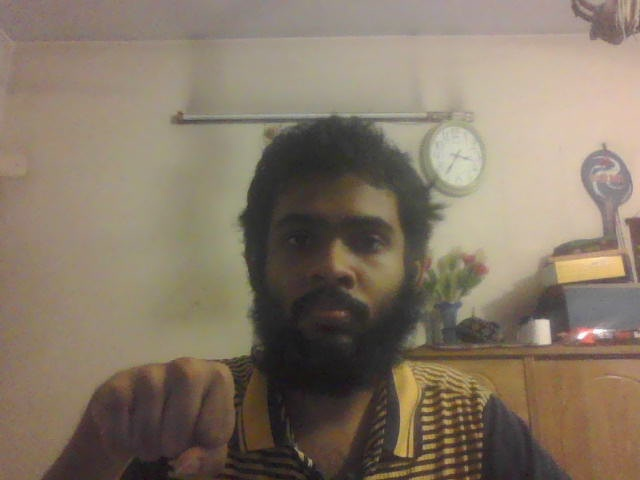Yes: (88, 359, 244, 478)
